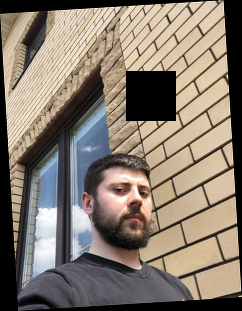without_mask: (103, 175, 154, 251)
